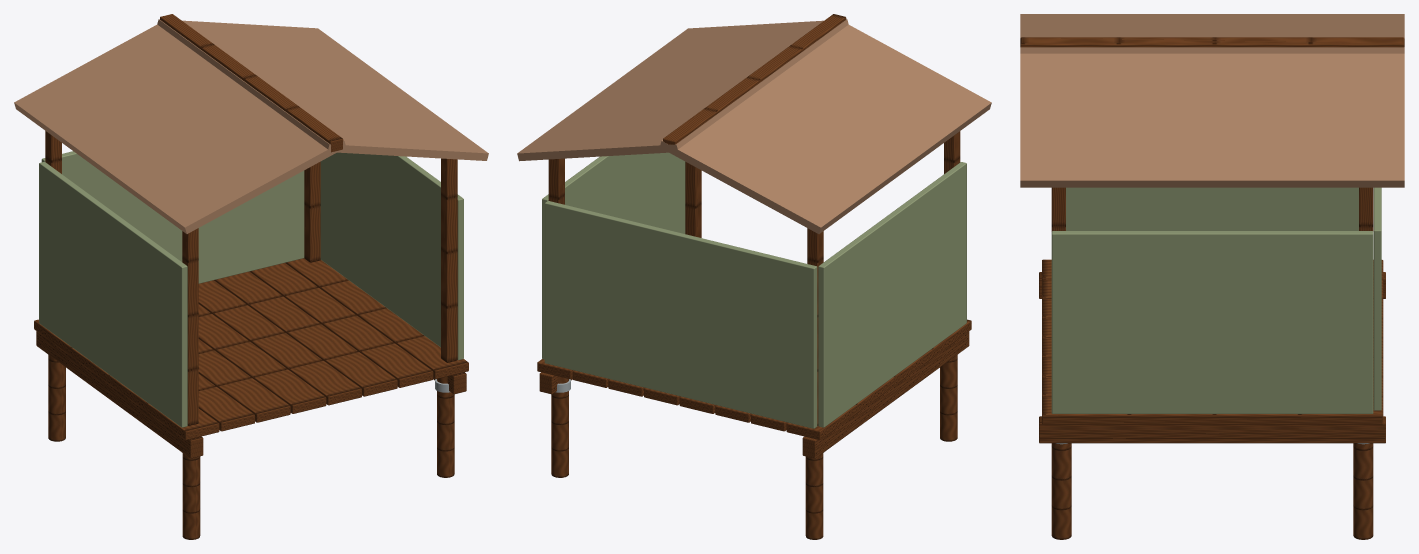
Rendered from flooded-and-coastal-survival-stilt-shelter-a0173f9b__20051.glb.
3 views of the same model, side by side, from view 1: azimuth 30°, elevation 25°; view 2: azimuth 150°, elevation 25°; view 3: azimuth 270°, elevation 25° (orthographic). The views are drawn at different scales.
Visible parts, largest first — view 1: stilt-shelter; view 2: stilt-shelter; view 3: stilt-shelter.
Part boxes in pixels (box(x1,y1,x2,y2)): stilt-shelter: box(14, 14, 488, 539); stilt-shelter: box(517, 14, 991, 539); stilt-shelter: box(1020, 14, 1404, 539).
Size of the model in its own units: 2.77 by 3.3 by 2.7.
Materials: 4 (1 with a texture image).
